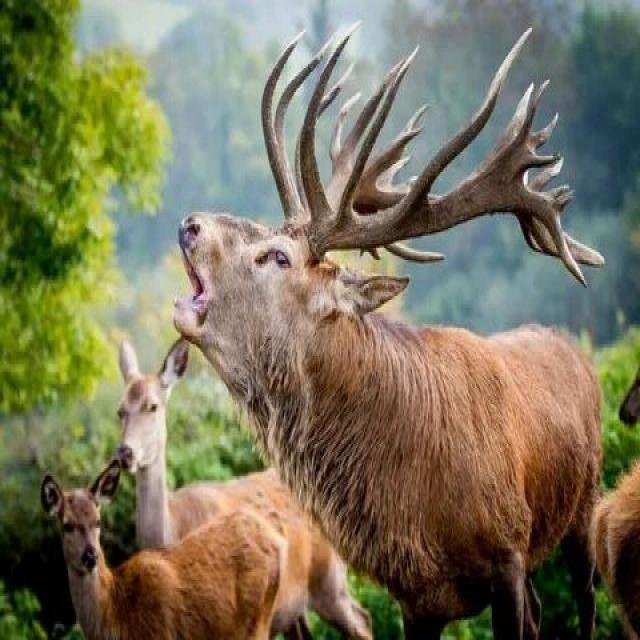deer: (172, 76, 640, 584)
